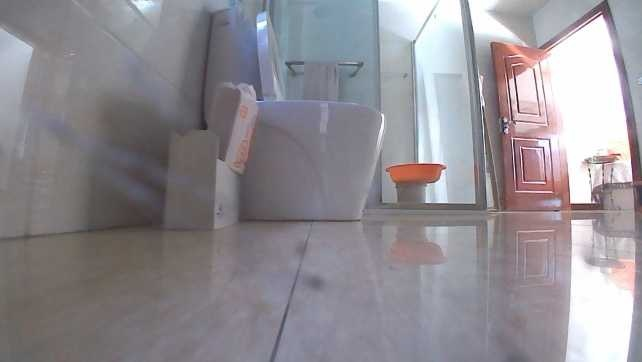door_anno: (489, 40, 568, 212)
toilet: (206, 5, 390, 227)
